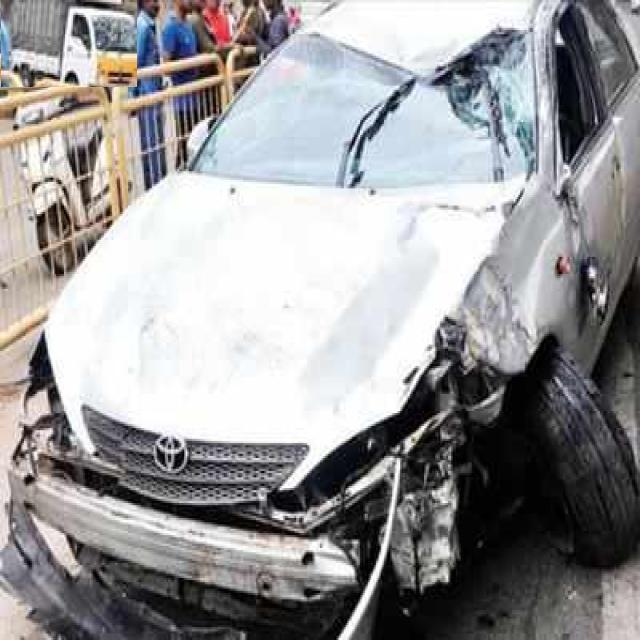accident: (10, 0, 640, 636)
truck: (1, 0, 136, 87)
